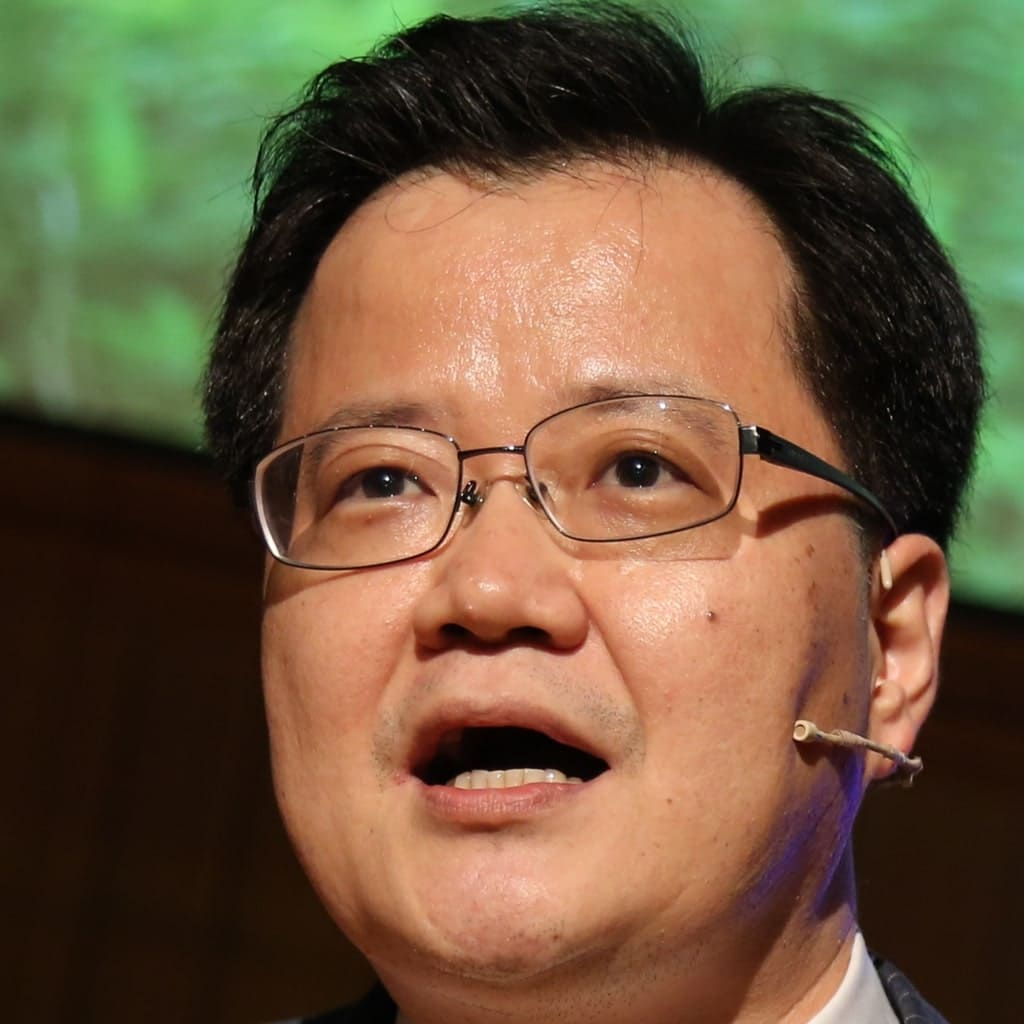without_mask: (258, 230, 846, 971)
